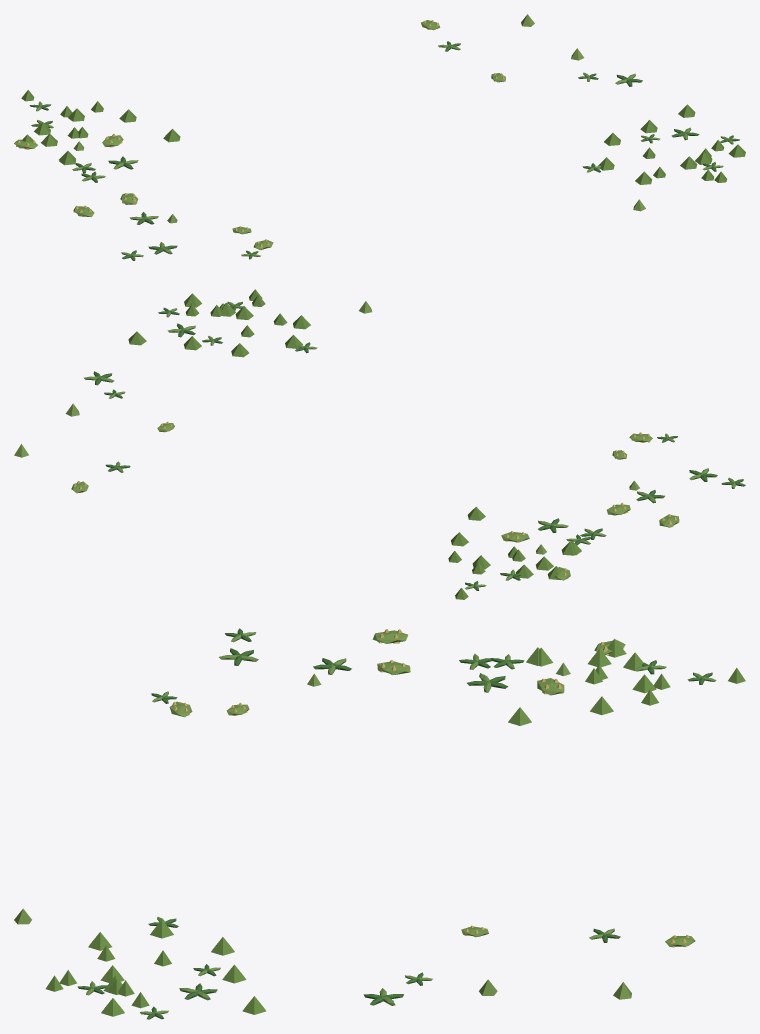
The model's file is overgrown_causeway_gate_nonsolid_props.fbx.
3 renders of one model, top to bottom at view 1: azimuth 30°, elevation 25°; view 2: azimuth 150°, elevation 25°; view 3: azimuth 270°, elevation 25°, orthographic. The views are drawn at different scales.
Visible parts, largest first — view 1: chunk_overgrown_causeway_gate__PropsNonSolid; view 2: chunk_overgrown_causeway_gate__PropsNonSolid; view 3: chunk_overgrown_causeway_gate__PropsNonSolid.
Boxes of the visible parts, <box> form: chunk_overgrown_causeway_gate__PropsNonSolid: <box>14,14,745,260</box>; chunk_overgrown_causeway_gate__PropsNonSolid: <box>14,289,745,599</box>; chunk_overgrown_causeway_gate__PropsNonSolid: <box>14,628,745,1019</box>.
Size of the model in its own units: 202 by 7.05 by 159.
